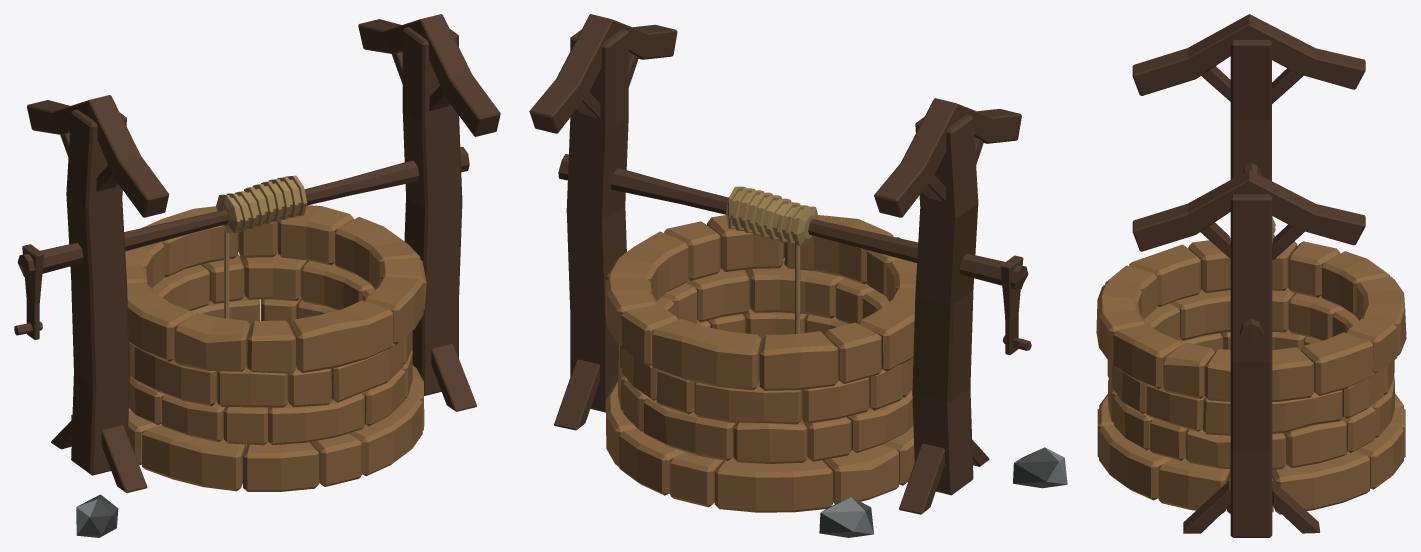
Rendered from BrunnenSandwelt.fbx.
3 renders of one model, left to right at view 1: azimuth 30°, elevation 25°; view 2: azimuth 150°, elevation 25°; view 3: azimuth 270°, elevation 25°, orthographic. The views are drawn at different scales.
Parts seen in each view (by area): view 1: Brunnen1.001; view 2: Brunnen1.001; view 3: Brunnen1.001.
Part boxes in pixels (box(x1,y1,x2,y2)): Brunnen1.001: box(14, 14, 500, 537); Brunnen1.001: box(529, 14, 1067, 537); Brunnen1.001: box(1096, 14, 1406, 537).
Size of the model in its own units: 2396 by 2022 by 1494.
